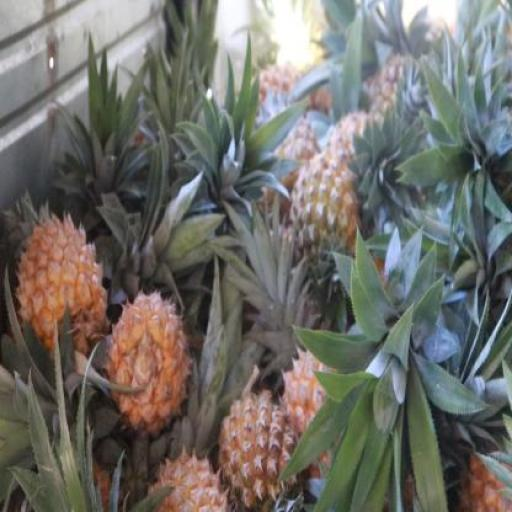Pineapple - v8 v1: (16, 207, 106, 354), (106, 290, 184, 424), (218, 388, 295, 512), (147, 444, 230, 512)
